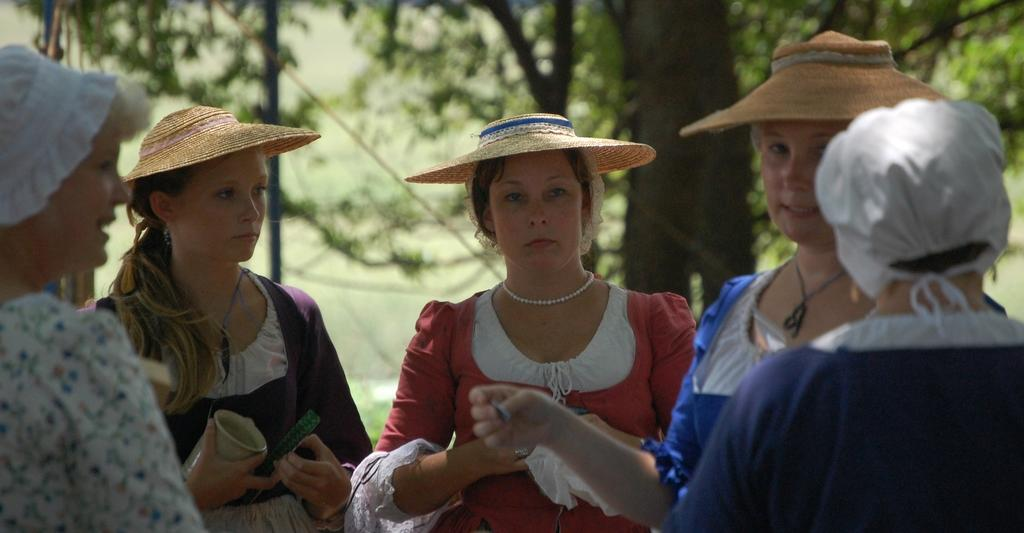Hat: (682, 29, 950, 135), (400, 112, 654, 187), (122, 101, 320, 190)
